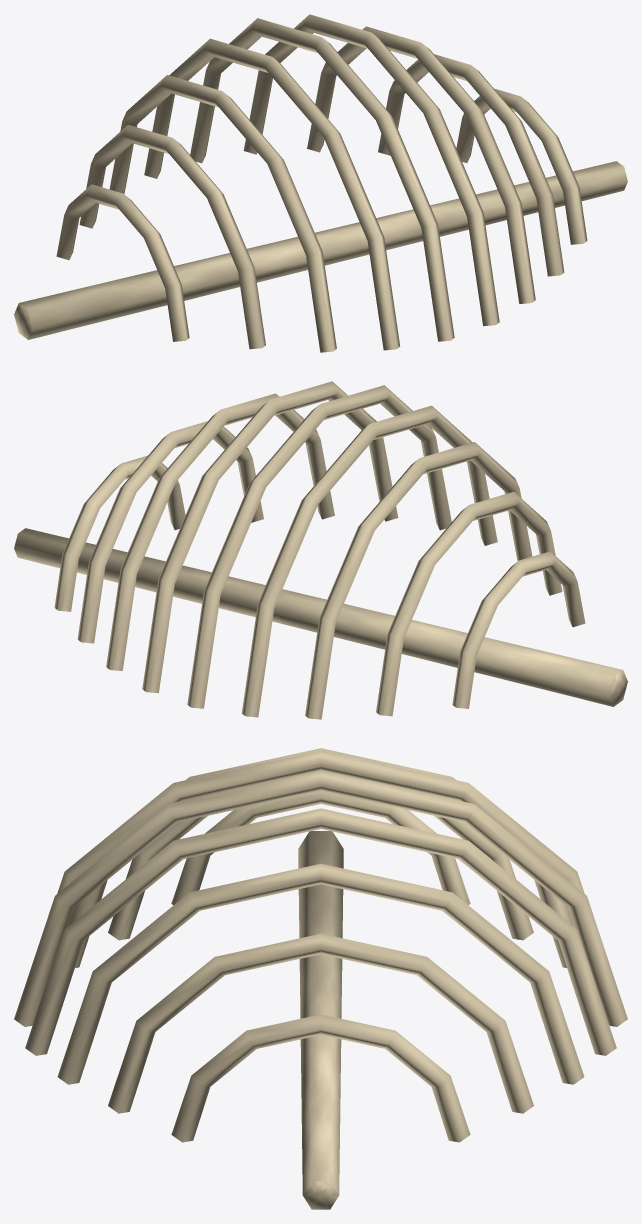
Rendered from Bones_Scatter_2.gltf.
3 renders of one model, top to bottom at view 1: azimuth 30°, elevation 25°; view 2: azimuth 150°, elevation 25°; view 3: azimuth 270°, elevation 25°, orthographic. The views are drawn at different scales.
Parts seen in each view (by area): view 1: Bones_Scatter_2; view 2: Bones_Scatter_2; view 3: Bones_Scatter_2.
Boxes of the visible parts, <box> form: Bones_Scatter_2: <box>14,14,627,352</box>; Bones_Scatter_2: <box>14,381,627,719</box>; Bones_Scatter_2: <box>14,748,627,1209</box>.
Bounding box in the file's own units: 1.8 × 0.6533 × 1.35.
Materials: 1 (1 with a texture image).
